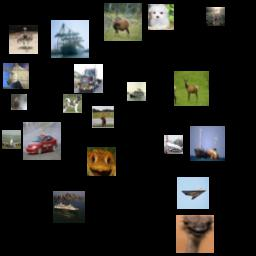airplane: (177, 177, 209, 209), (164, 135, 183, 154), (2, 130, 21, 149)
automobile: (23, 122, 61, 160)
bird: (176, 215, 214, 253), (9, 25, 38, 54), (11, 94, 27, 110)
deer: (104, 3, 142, 41), (174, 71, 209, 106), (92, 106, 114, 128)
dog: (148, 4, 174, 30), (63, 94, 82, 113), (206, 7, 225, 26)
frog: (87, 147, 116, 176)
ship: (51, 20, 89, 58), (190, 126, 225, 161), (53, 191, 85, 223), (127, 82, 146, 101)
truck: (74, 64, 103, 93)
